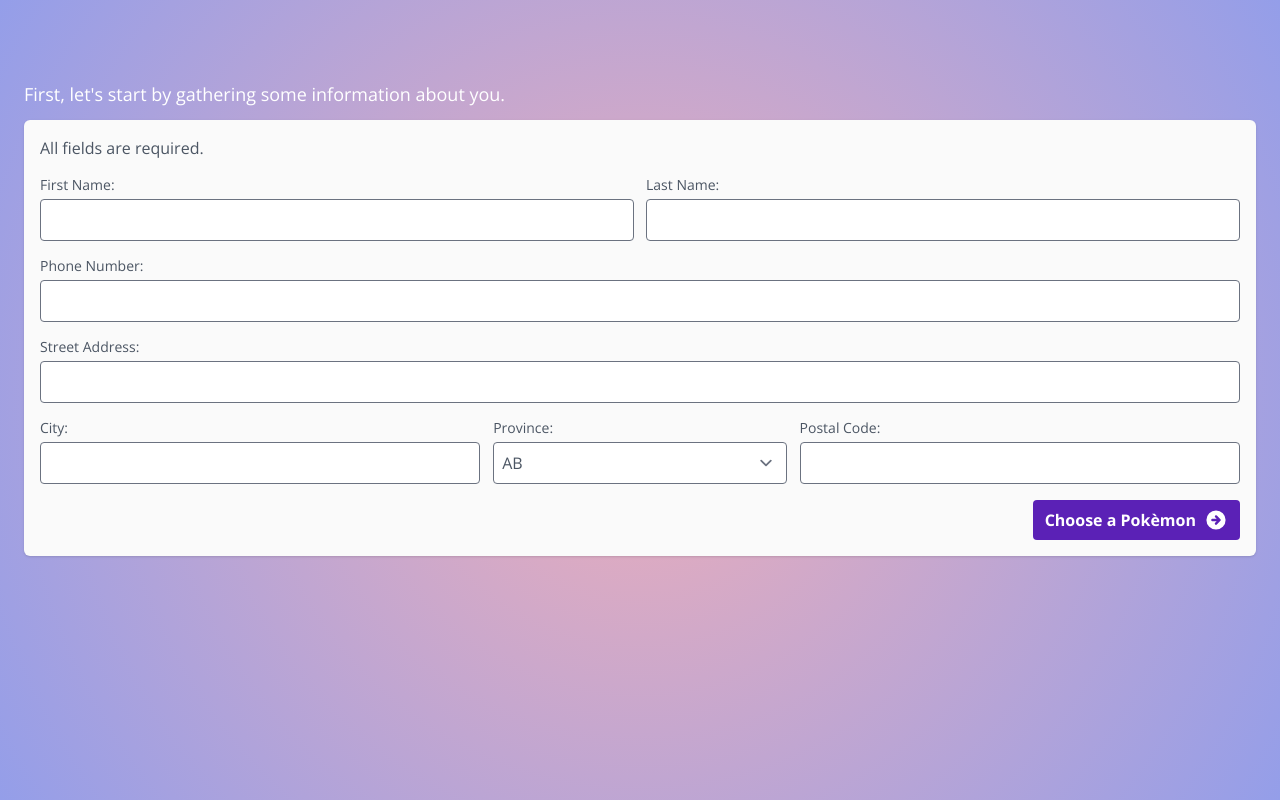
it: WelcomeForm › validates phone number input
Type "613262948" into the number field labelled "Phone Number:" at (640, 301), box [40, 280, 1240, 322]
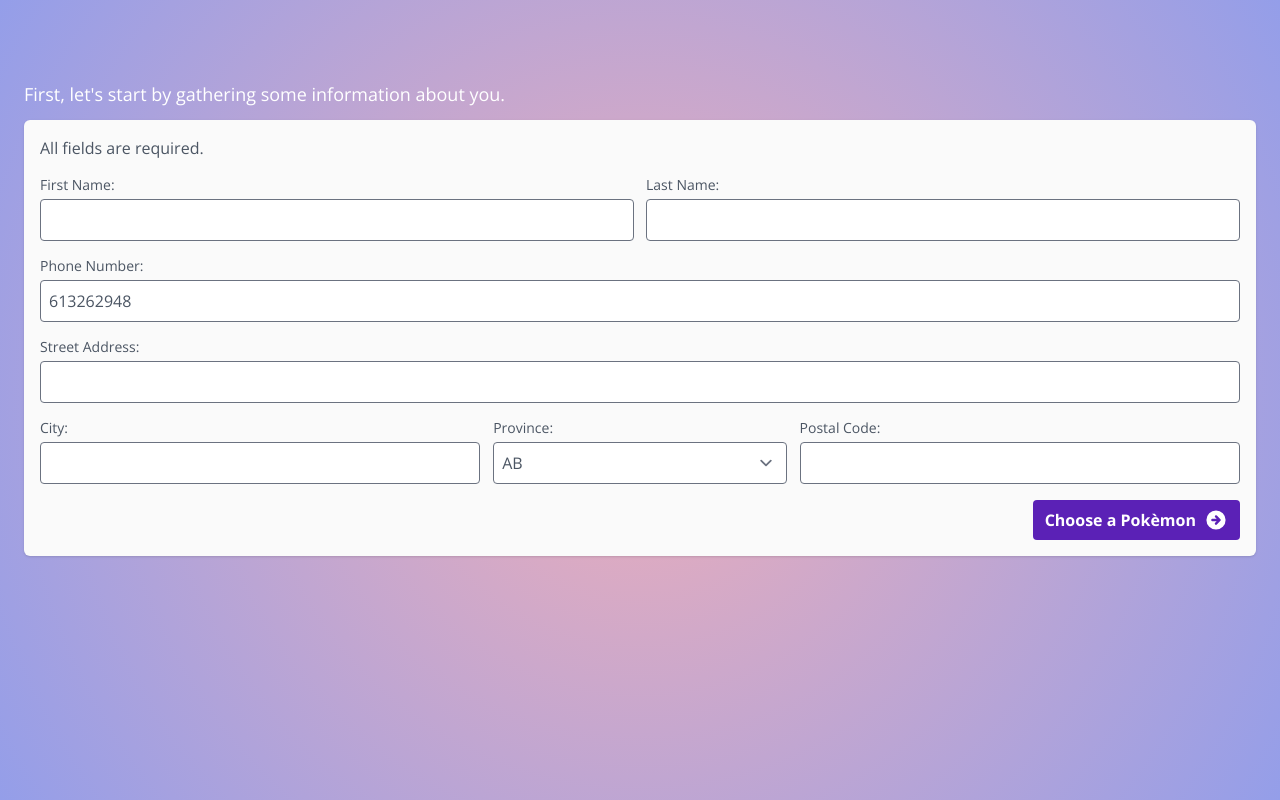
Click the button "Choose a Pokèmon" at (1136, 520), box [1033, 500, 1240, 540]
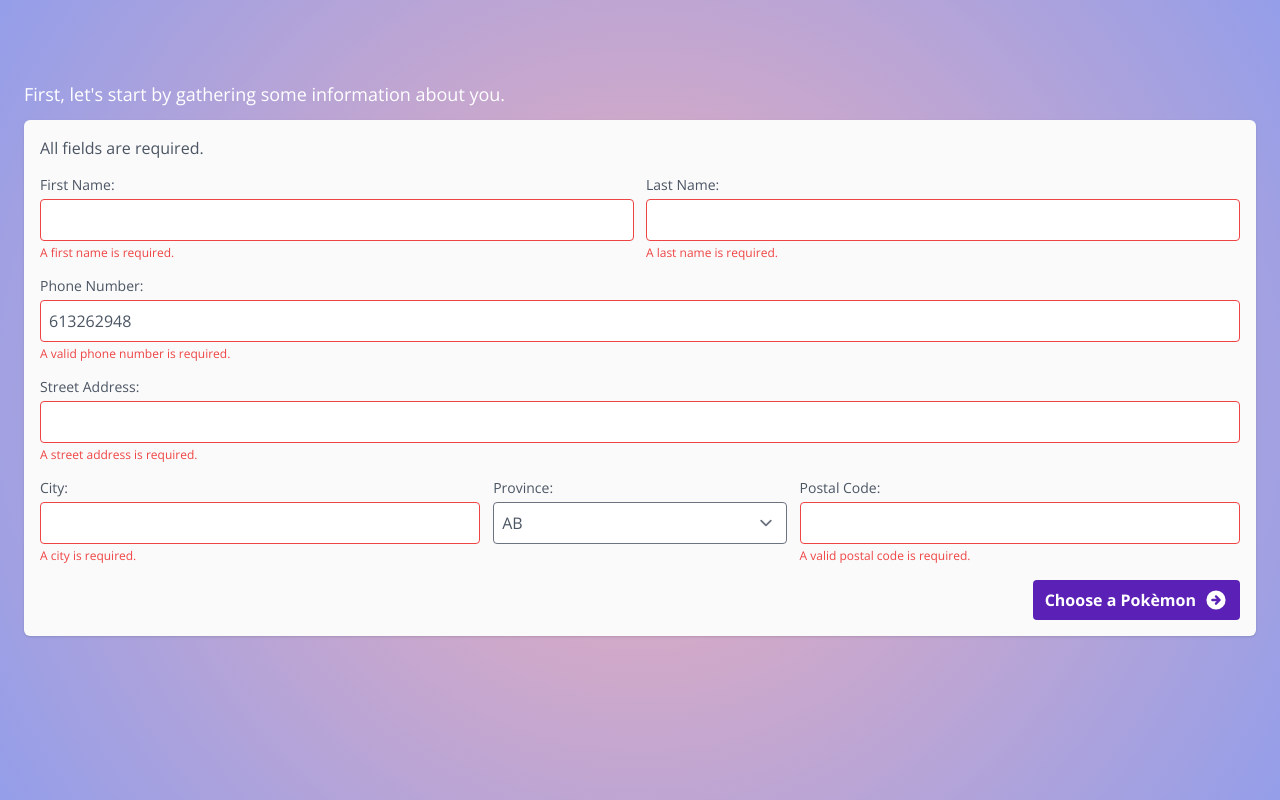
Expected: the text "A valid phone number is required." is shown, [40, 345, 230, 362]
